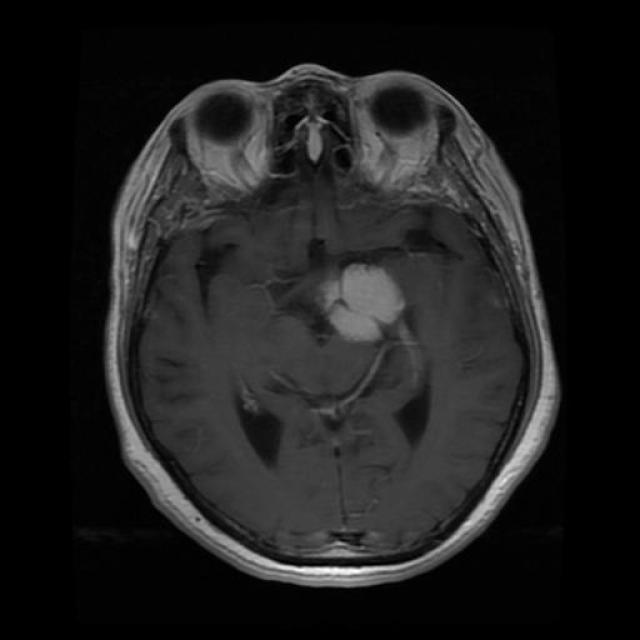meningioma: (326, 262, 406, 342)
